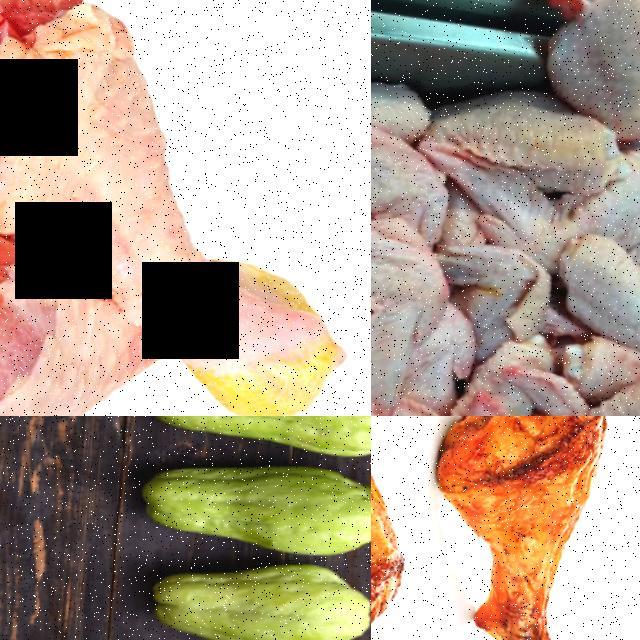chayote: (136, 447, 371, 555), (130, 536, 371, 640), (135, 416, 371, 456)
chicken thigh: (0, 0, 371, 281), (417, 416, 640, 640), (0, 206, 165, 416), (371, 416, 447, 640)
chicken wing: (371, 203, 471, 416), (531, 0, 640, 139), (551, 210, 640, 352)
